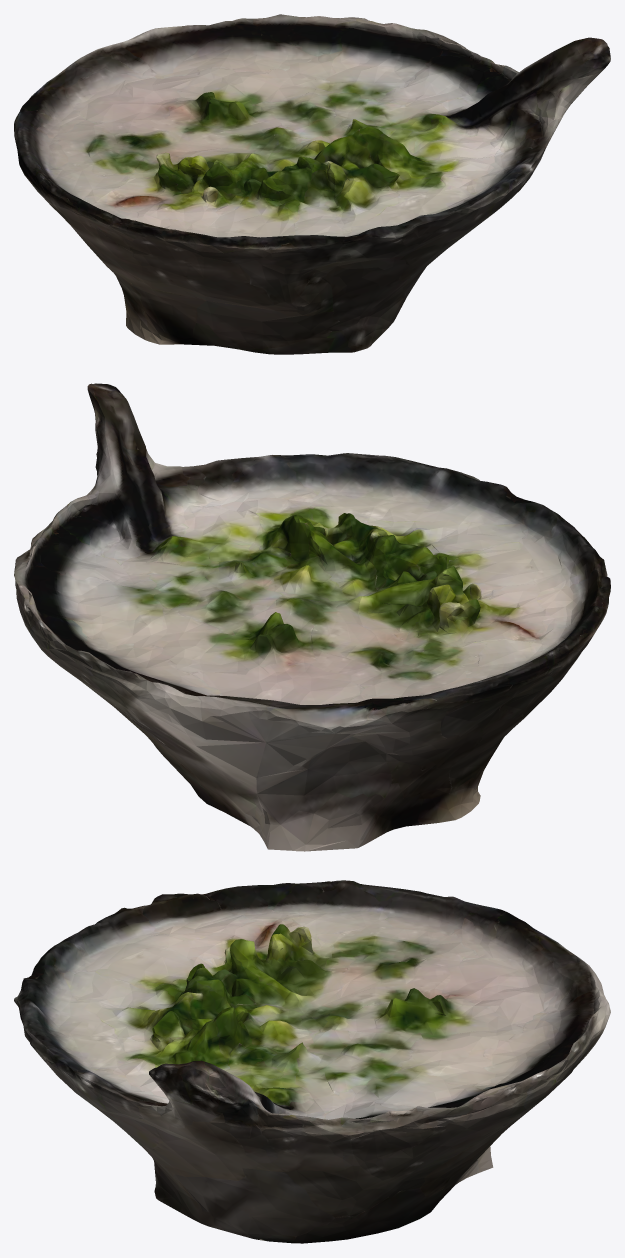
3 views of the same model, one above another, from view 1: azimuth 30°, elevation 25°; view 2: azimuth 150°, elevation 25°; view 3: azimuth 270°, elevation 25° (orthographic). The views are drawn at different scales.
Size of the model in its own units: 1.08 by 0.5027 by 1.03.
Materials: 1 (1 with a texture image).
